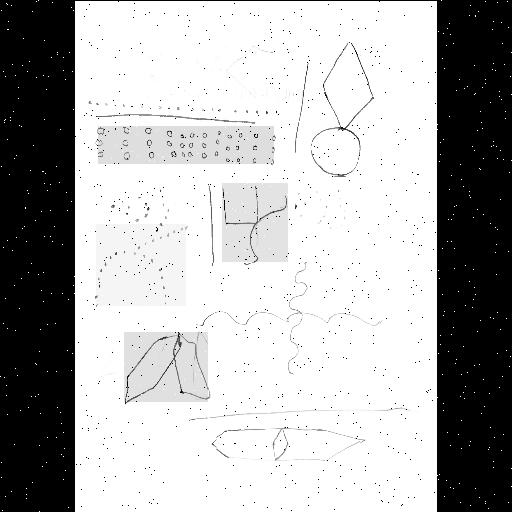shape-1: (311, 41, 373, 177)
shape-2: (90, 98, 276, 116)
shape-3: (98, 126, 274, 164)
shape-4: (110, 188, 170, 232)
shape-5: (222, 183, 288, 267)
shape-6: (96, 224, 186, 306)
shape-7: (196, 262, 382, 376)
shape-8: (124, 332, 208, 402)
shape-9: (214, 428, 362, 464)
